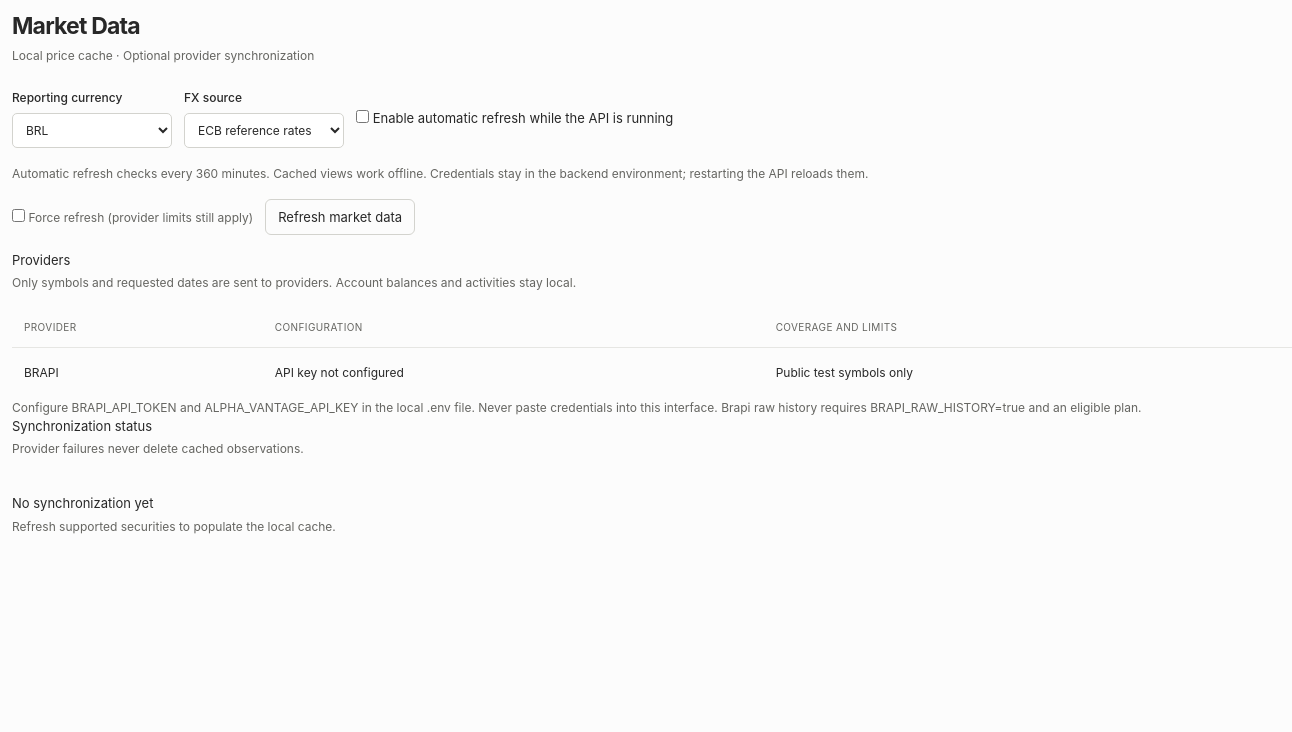
Test: updates reporting preferences and refreshes explicitly rather than on read
The image size is (1292, 732).
expect the text "No synchronization yet" is shown: met, box [12,495,153,511]
Select "USD" in the dropdown labelled "Reporting currency" at (92, 131), box [12,113,172,148]
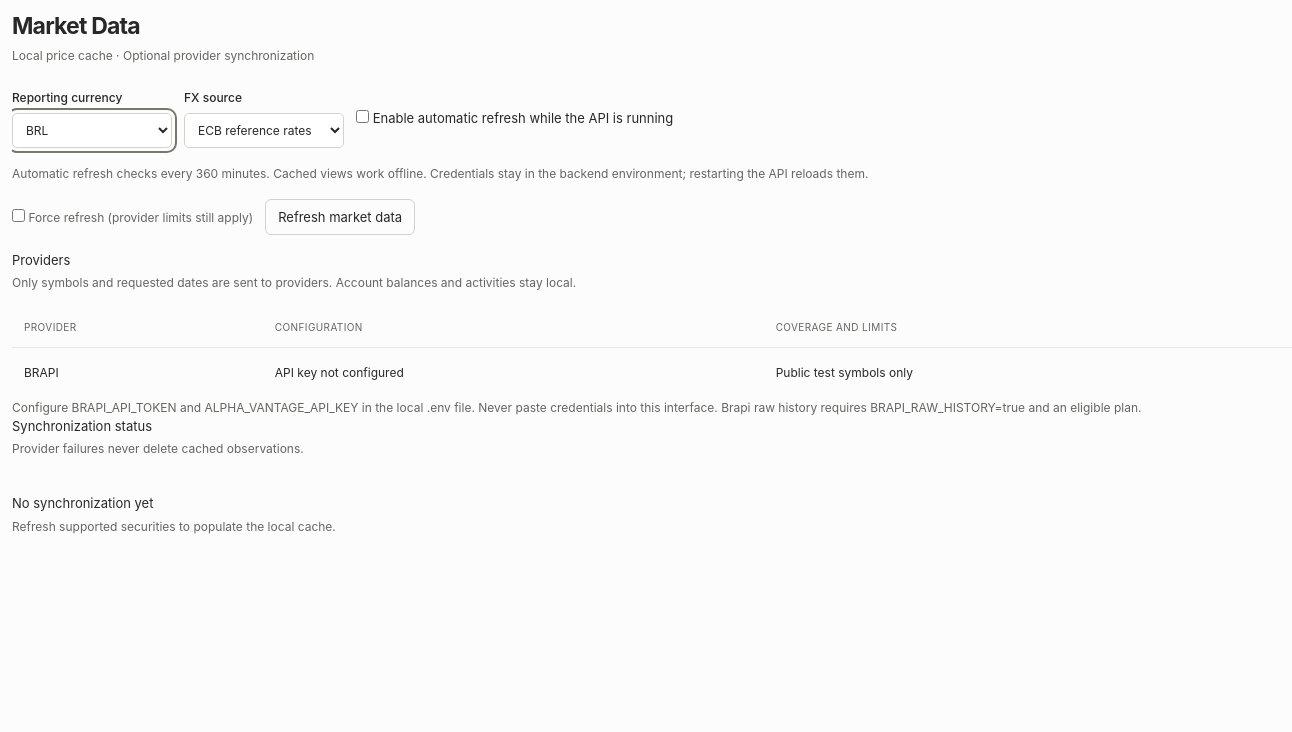
Click the button "Refresh market data" at (340, 217), box [265,199,415,235]
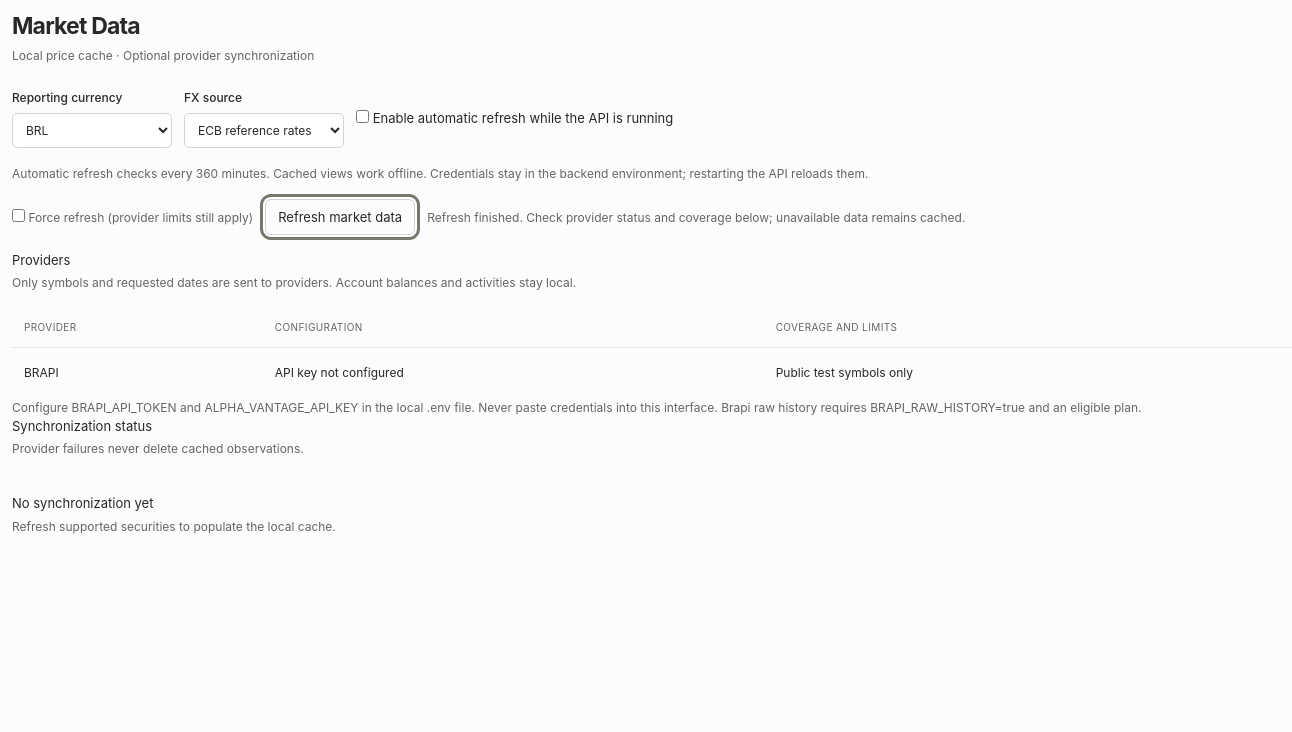
expect the text "Refresh finished" is shown: met, box [427,210,965,225]
